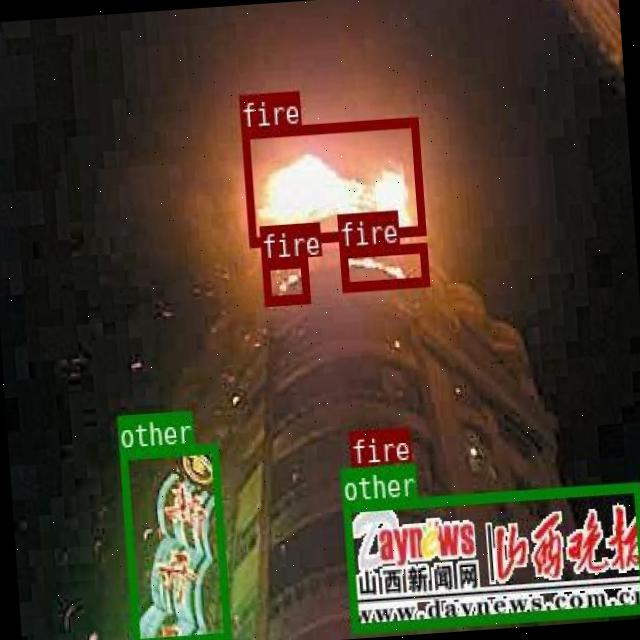fire: (240, 115, 423, 246), (338, 240, 428, 290), (260, 255, 308, 303), (351, 462, 378, 500)
